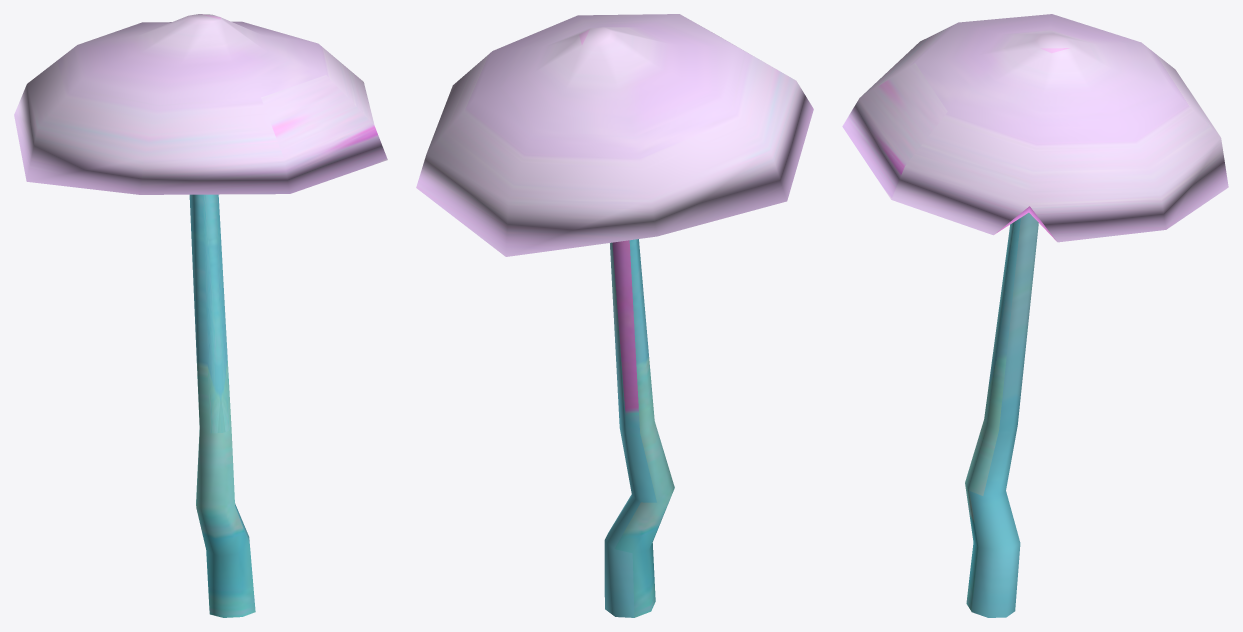
The model's file is grande_seta12.fbx.
The picture shows the model from 3 angles, left to right: view 1: azimuth 30°, elevation 25°; view 2: azimuth 150°, elevation 25°; view 3: azimuth 270°, elevation 25°; orthographic projection. The views are drawn at different scales.
Parts seen in each view (by area): view 1: SetaXL_12; view 2: SetaXL_12; view 3: SetaXL_12.
Boxes of the visible parts, x1,y1,x2,y2 form: SetaXL_12: (14, 14, 387, 617); SetaXL_12: (416, 14, 813, 617); SetaXL_12: (842, 14, 1228, 617).
Size of the model in its own units: 15664 by 26142 by 16004.
1 material, 1 textured.
